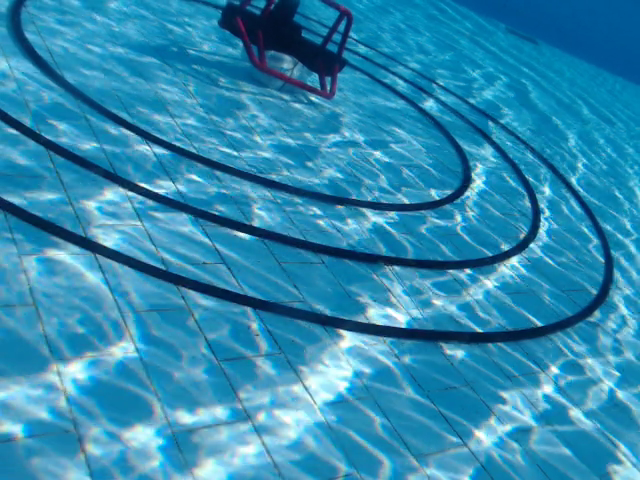submarine: (215, 1, 354, 102)
